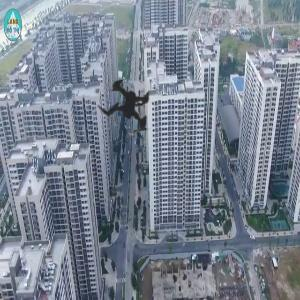drone: (46, 29, 208, 191)
